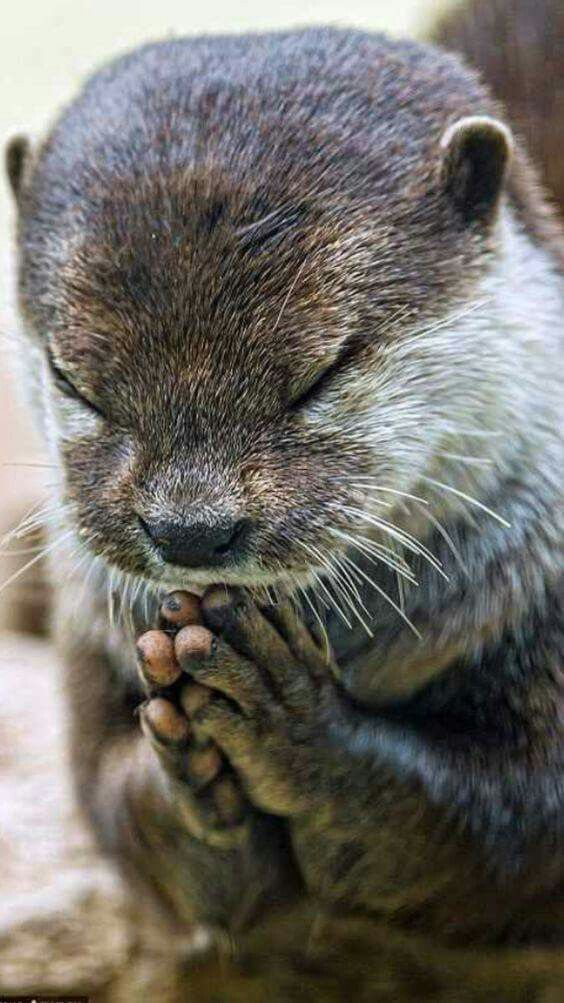otter: (9, 11, 564, 889)
